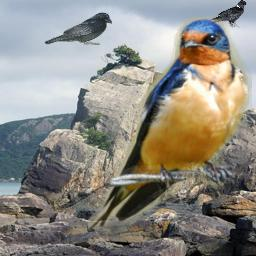Crow: (44, 12, 112, 45), (208, 0, 247, 28)
Swallow: (88, 17, 252, 231)
